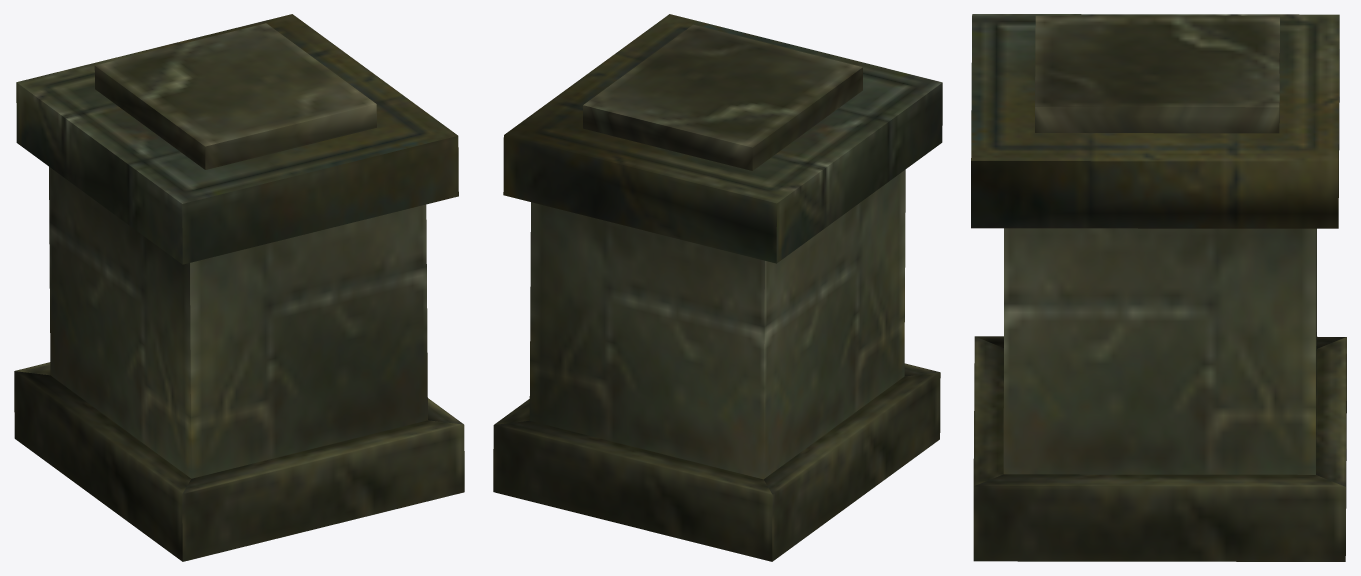
Rendered from fxmg_lizhu5.FBX.
The picture shows the model from 3 angles, left to right: view 1: azimuth 30°, elevation 25°; view 2: azimuth 150°, elevation 25°; view 3: azimuth 270°, elevation 25°; orthographic projection. The views are drawn at different scales.
Visible parts, largest first — view 1: KLMSM_lizhu5; view 2: KLMSM_lizhu5; view 3: KLMSM_lizhu5.
Boxes of the visible parts, box(x1,y1,x2,y2) form: KLMSM_lizhu5: box(14, 14, 464, 561); KLMSM_lizhu5: box(493, 14, 942, 561); KLMSM_lizhu5: box(971, 14, 1346, 561).
Bounding box in the file's own units: 72.38 × 93.65 × 75.26.
